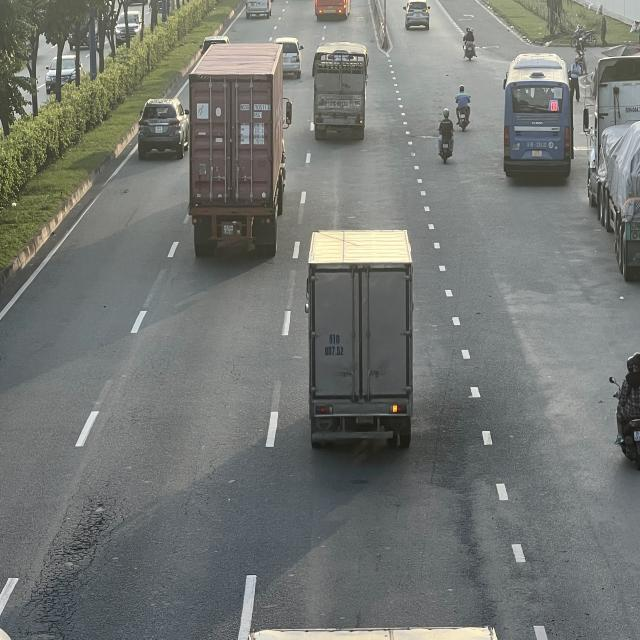car: (137, 98, 191, 160), (276, 35, 304, 78), (405, 1, 432, 32)
coach: (501, 53, 575, 182)
container: (188, 45, 289, 264), (579, 55, 640, 287)
truck: (302, 228, 412, 450), (311, 42, 369, 140)
